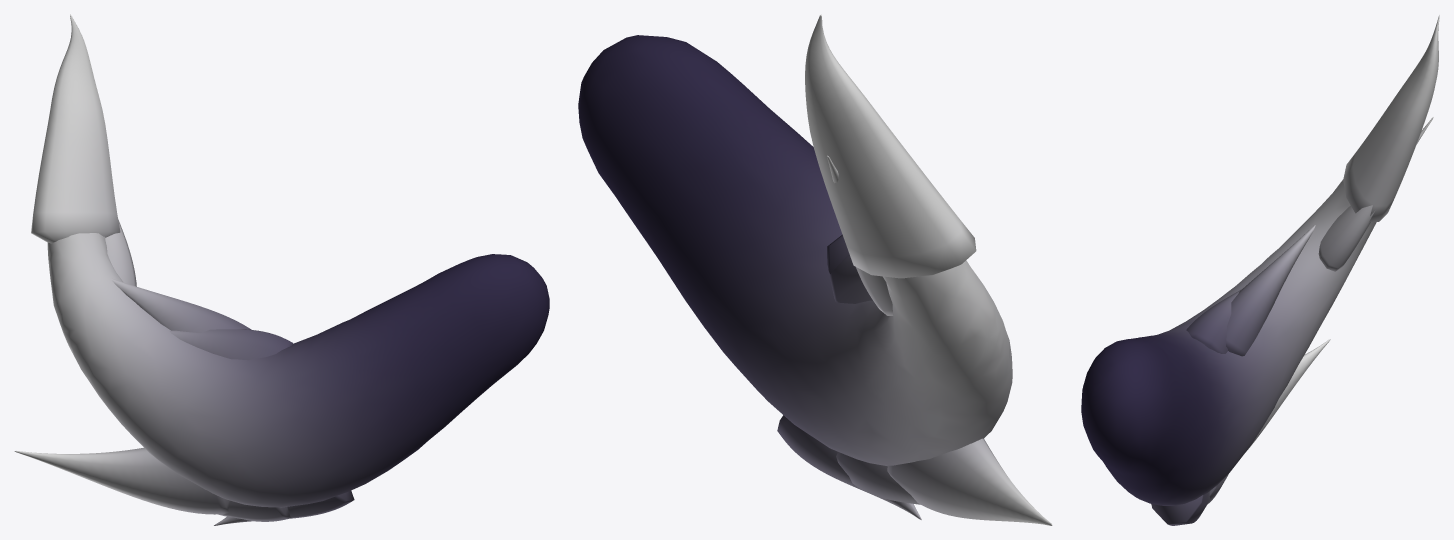
Rendered from monarca_chama_baixo_e.fbx.
3 renders of one model, left to right at view 1: azimuth 30°, elevation 25°; view 2: azimuth 150°, elevation 25°; view 3: azimuth 270°, elevation 25°, orthographic. The views are drawn at different scales.
Visible parts, largest first — view 1: monarca_chama_baixo_e; view 2: monarca_chama_baixo_e; view 3: monarca_chama_baixo_e.
Boxes of the visible parts, <box> form: monarca_chama_baixo_e: <box>14,14,549,525</box>; monarca_chama_baixo_e: <box>578,14,1052,525</box>; monarca_chama_baixo_e: <box>1081,15,1439,525</box>.
Size of the model in its own units: 2.24 by 2.21 by 1.59.
